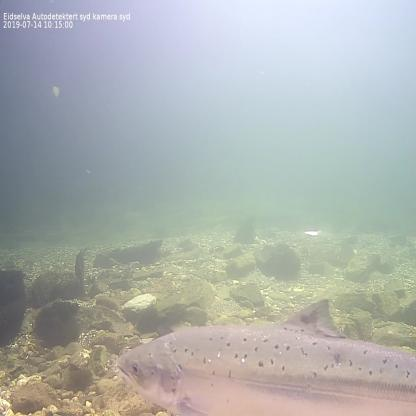salmon: (112, 293, 416, 415)
